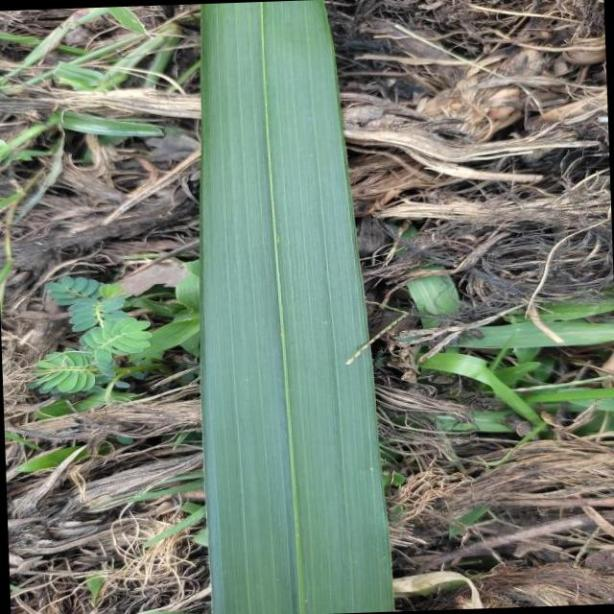Healthy: (203, 0, 395, 614)
